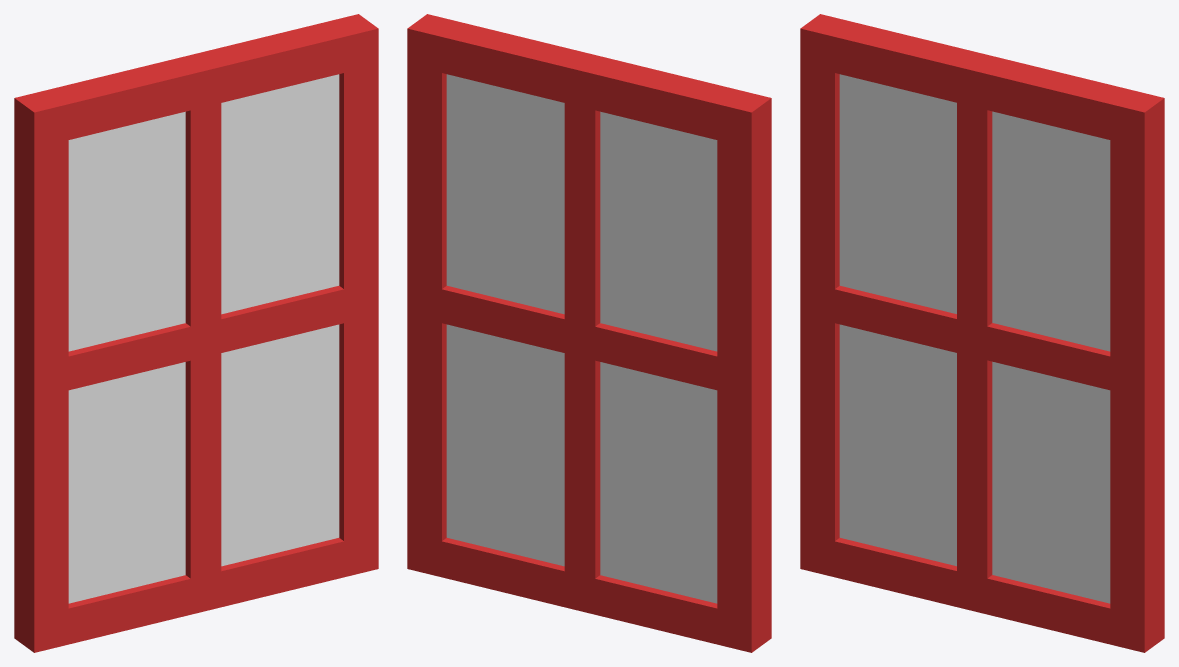
Rendered from Cleptomaniac MarktMedia Window Straight (Upper Floor).FBX.
3 views of the same model, side by side, from view 1: azimuth 30°, elevation 25°; view 2: azimuth 150°, elevation 25°; view 3: azimuth 330°, elevation 25° (orthographic).
Visible parts, largest first — view 1: Window Straight (Upper Floor); view 2: Window Straight (Upper Floor); view 3: Window Straight (Upper Floor).
Boxes of the visible parts, x1,y1,x2,y2 form: Window Straight (Upper Floor): (14,14,378,652); Window Straight (Upper Floor): (407,14,771,652); Window Straight (Upper Floor): (800,14,1164,652).
Size of the model in its own units: 2 by 3 by 0.2.
